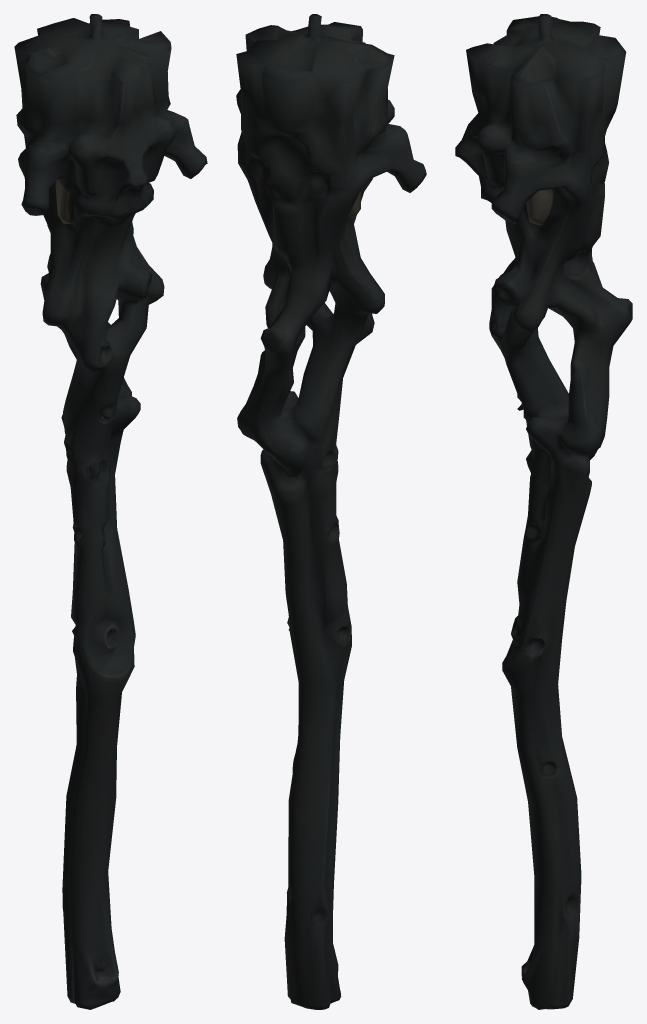
The model's file is tallowwood_staff.glb.
3 views of the same model, side by side, from view 1: azimuth 30°, elevation 25°; view 2: azimuth 150°, elevation 25°; view 3: azimuth 270°, elevation 25° (orthographic).
Visible parts, largest first — view 1: base_model_path; view 2: base_model_path; view 3: base_model_path.
Boxes of the visible parts, x1,y1,x2,y2 form: base_model_path: [14, 14, 207, 1009]; base_model_path: [236, 14, 426, 1009]; base_model_path: [455, 14, 632, 1009].
Size of the model in its own units: 0.1898 by 0.9999 by 0.1624.
1 material, 1 textured.
